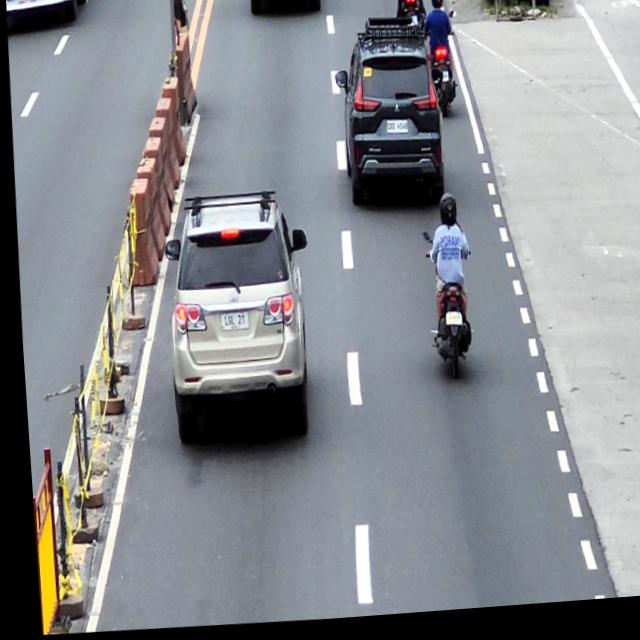Car: (154, 191, 314, 451), (329, 31, 445, 217)
License-Plate: (214, 313, 245, 334), (383, 123, 406, 140), (439, 317, 458, 332), (438, 77, 448, 89)
Motorcycle: (415, 234, 472, 389), (423, 14, 460, 124), (393, 0, 427, 37)
